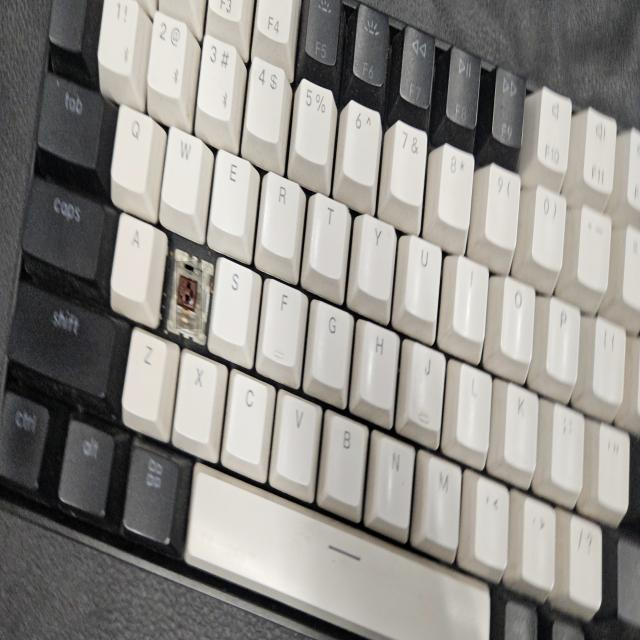C: (176, 261, 202, 329)
